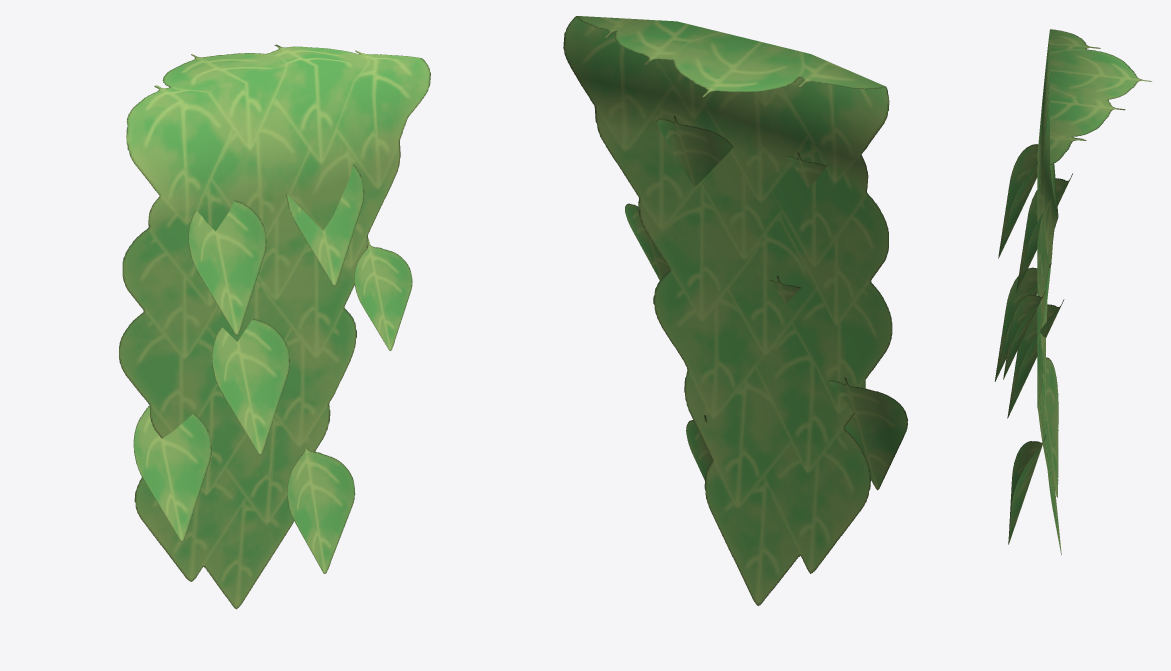
The model's file is LeafSetB_17.fbx.
The picture shows the model from 3 angles, left to right: view 1: azimuth 30°, elevation 25°; view 2: azimuth 150°, elevation 25°; view 3: azimuth 270°, elevation 25°; orthographic projection. The views are drawn at different scales.
Visible parts, largest first — view 1: LeafSetB_17; view 2: LeafSetB_17; view 3: LeafSetB_17.
Boxes of the visible parts, x1,y1,x2,y2 form: LeafSetB_17: [119, 44, 430, 609]; LeafSetB_17: [563, 16, 907, 605]; LeafSetB_17: [994, 29, 1151, 555].
Bounding box in the file's own units: 0.5214 × 0.7004 × 0.2354.
